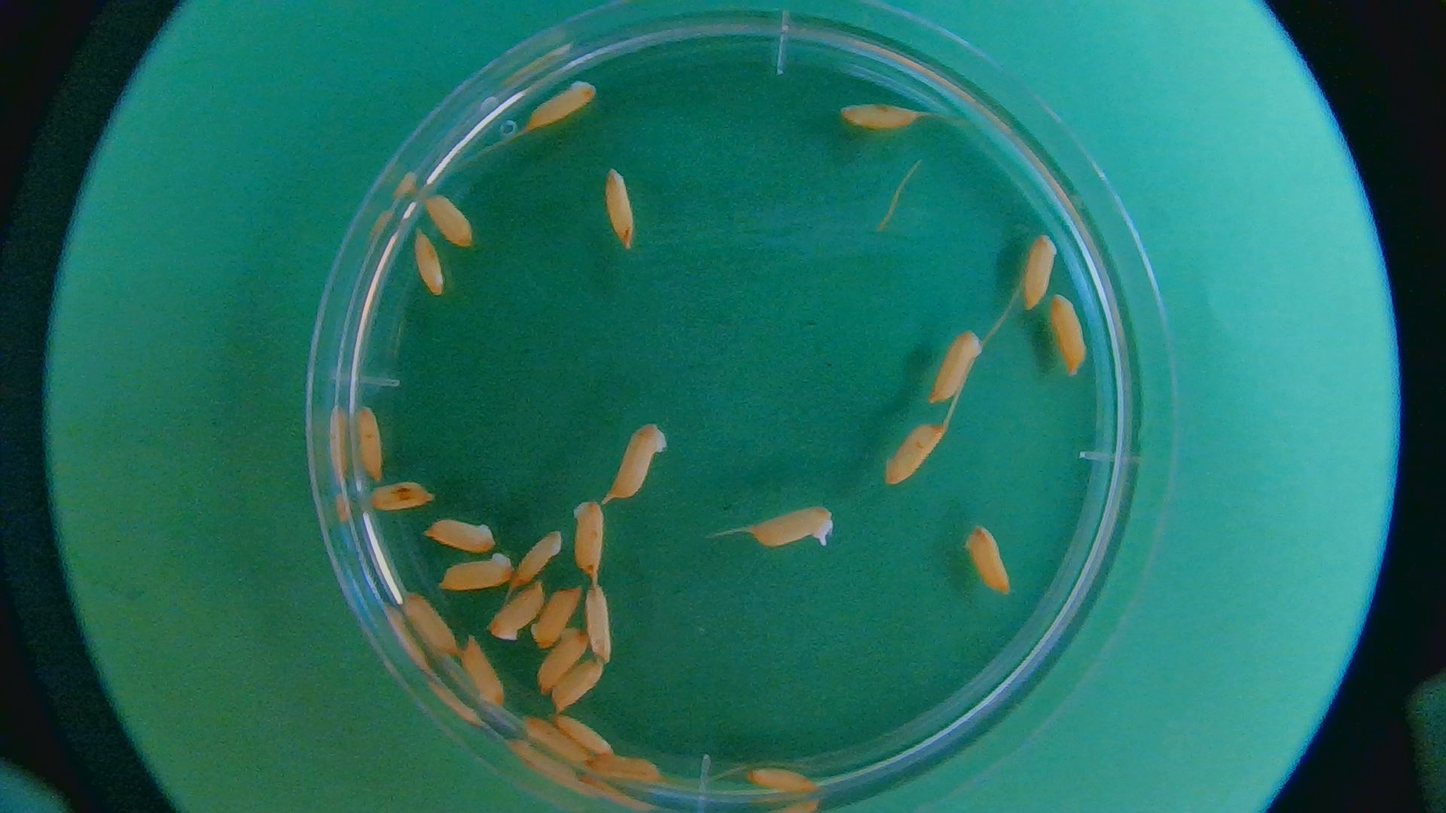no: (607, 416, 672, 504), (518, 77, 605, 132), (929, 327, 983, 406), (743, 507, 838, 550), (883, 417, 945, 482), (486, 579, 548, 643), (393, 591, 459, 651), (523, 711, 591, 766), (959, 524, 1014, 592), (1048, 291, 1088, 374), (510, 528, 566, 587), (459, 636, 506, 705), (422, 190, 476, 250), (599, 164, 636, 248), (567, 500, 607, 577), (531, 585, 580, 646), (580, 582, 617, 660), (417, 517, 499, 552), (1020, 233, 1057, 309), (552, 656, 603, 711), (350, 403, 387, 478), (551, 711, 614, 755), (839, 99, 923, 131), (588, 752, 669, 784), (439, 555, 514, 589), (746, 766, 825, 798), (408, 228, 446, 294), (368, 481, 439, 509)
